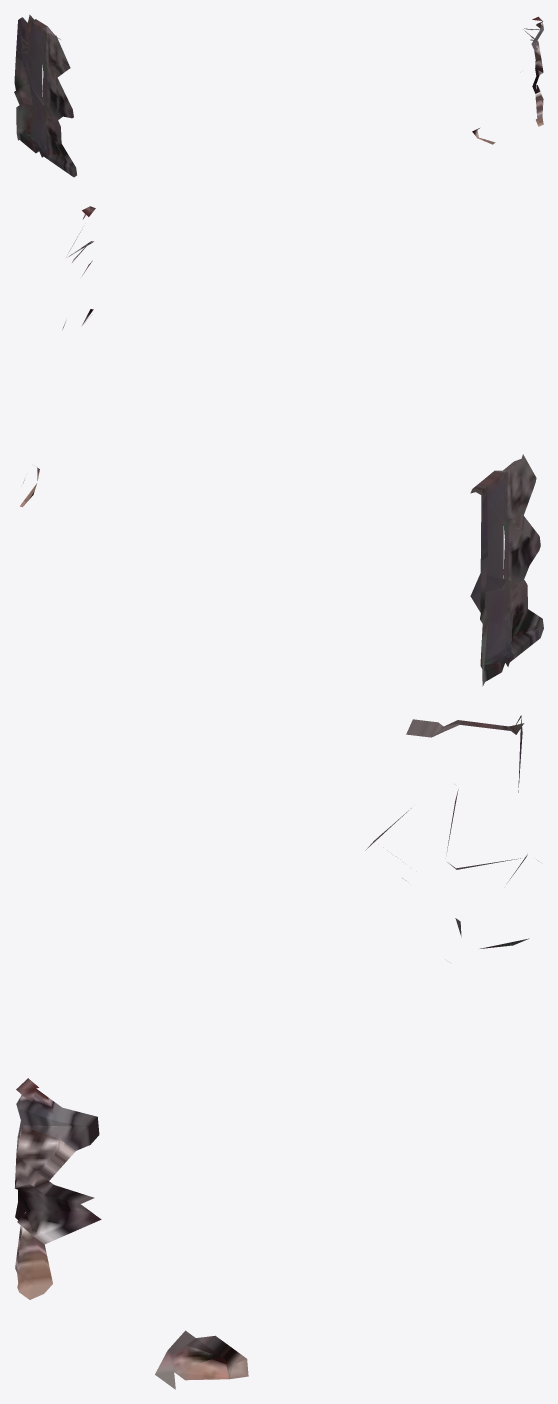
The picture shows the model from 3 angles, top to bottom: view 1: azimuth 30°, elevation 25°; view 2: azimuth 150°, elevation 25°; view 3: azimuth 270°, elevation 25°; orthographic projection. The views are drawn at different scales.
Visible parts, largest first — view 1: Mesh_0; view 2: Mesh_0; view 3: Mesh_0.
Boxes of the visible parts, x1=… form: Mesh_0: x1=14, y1=14, x2=543, y2=177; Mesh_0: x1=20, y1=206, x2=543, y2=686; Mesh_0: x1=15, y1=715, x2=529, y2=1389.
Size of the model in its own units: 31.49 by 12.58 by 19.01.
1 material, 1 textured.
